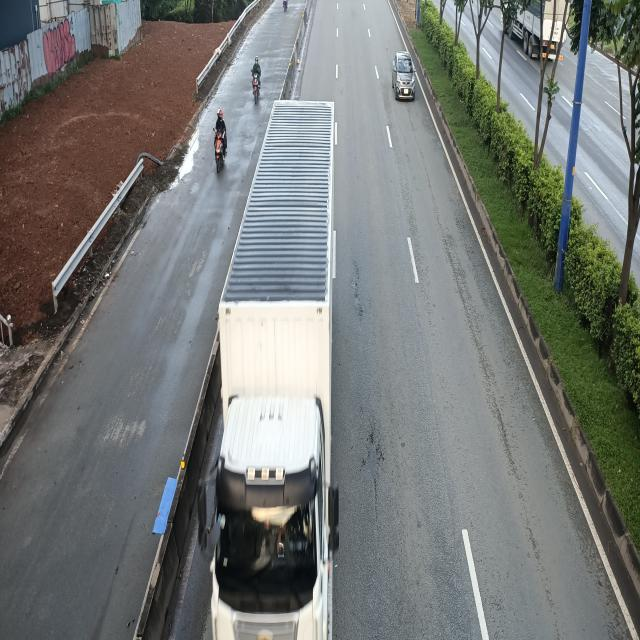car: (393, 51, 418, 100)
container: (201, 100, 343, 636)
